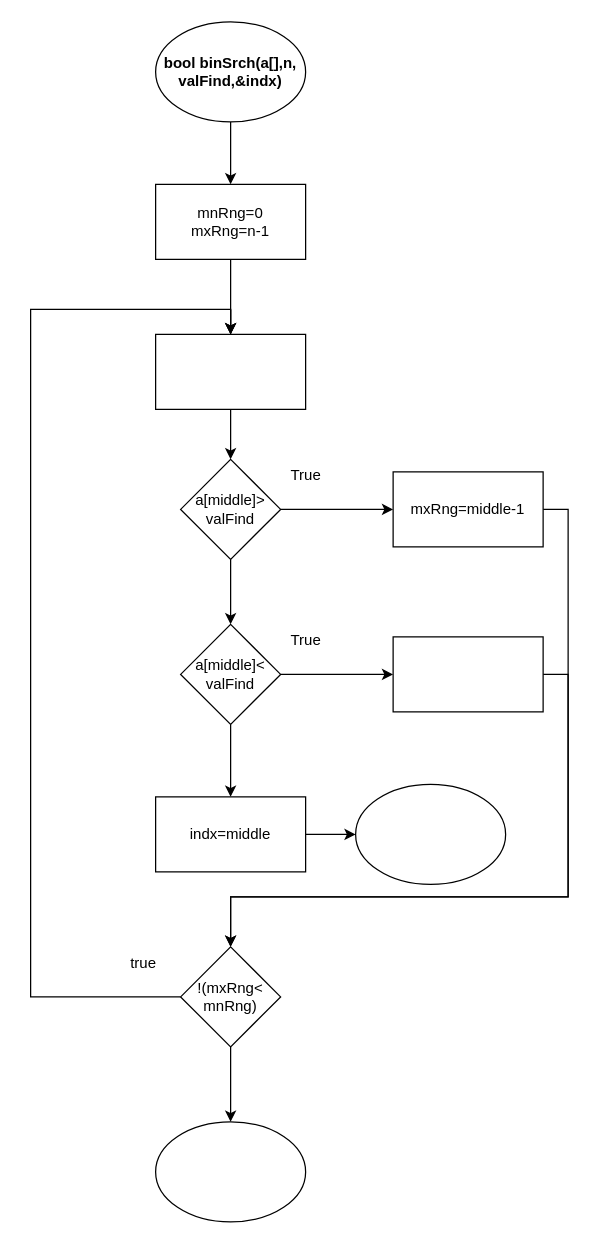
This 600x1244 diagram has some shape labels left out. Each missing label, with the centre of its shape:
middle= (mxRng+mnRng)/2: the point at 230,371
mnRng=middle+1: the point at 467,674
return false: the point at 230,1171
return true: the point at 430,833
